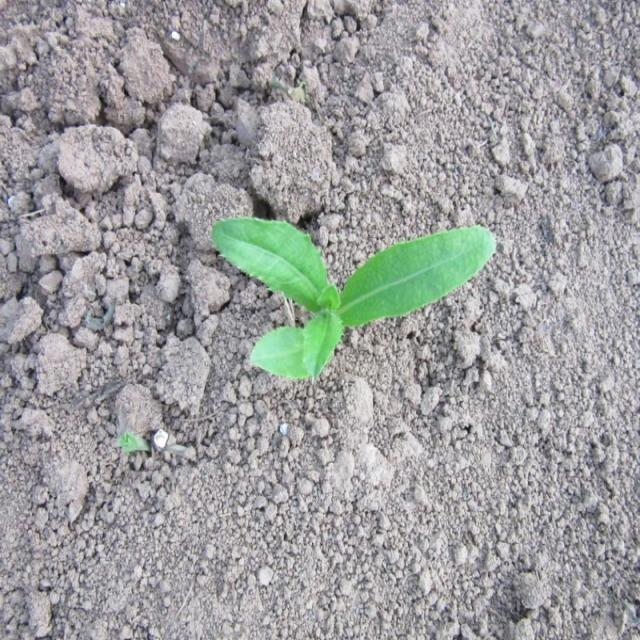cs: (207, 203, 500, 388)
